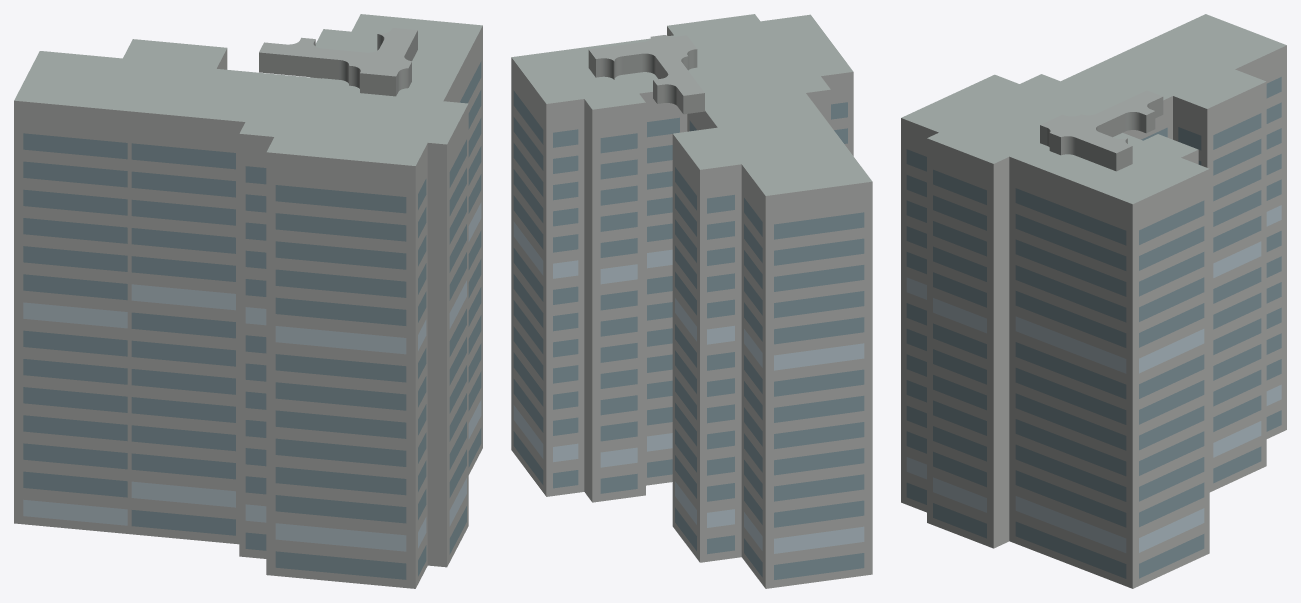
File: fallback-mapo-grang-xi-106.glb
The picture shows the model from 3 angles, left to right: view 1: azimuth 30°, elevation 25°; view 2: azimuth 150°, elevation 25°; view 3: azimuth 270°, elevation 25°; orthographic projection. The views are drawn at different scales.
Parts seen in each view (by area): view 1: fallback-mapo-grang-xi-106; view 2: fallback-mapo-grang-xi-106; view 3: fallback-mapo-grang-xi-106.
Part boxes in pixels (<box>): fallback-mapo-grang-xi-106: <box>14,14,482,588</box>; fallback-mapo-grang-xi-106: <box>511,14,872,588</box>; fallback-mapo-grang-xi-106: <box>901,14,1286,588</box>.
Size of the model in its own units: 43.58 by 43 by 37.35.
